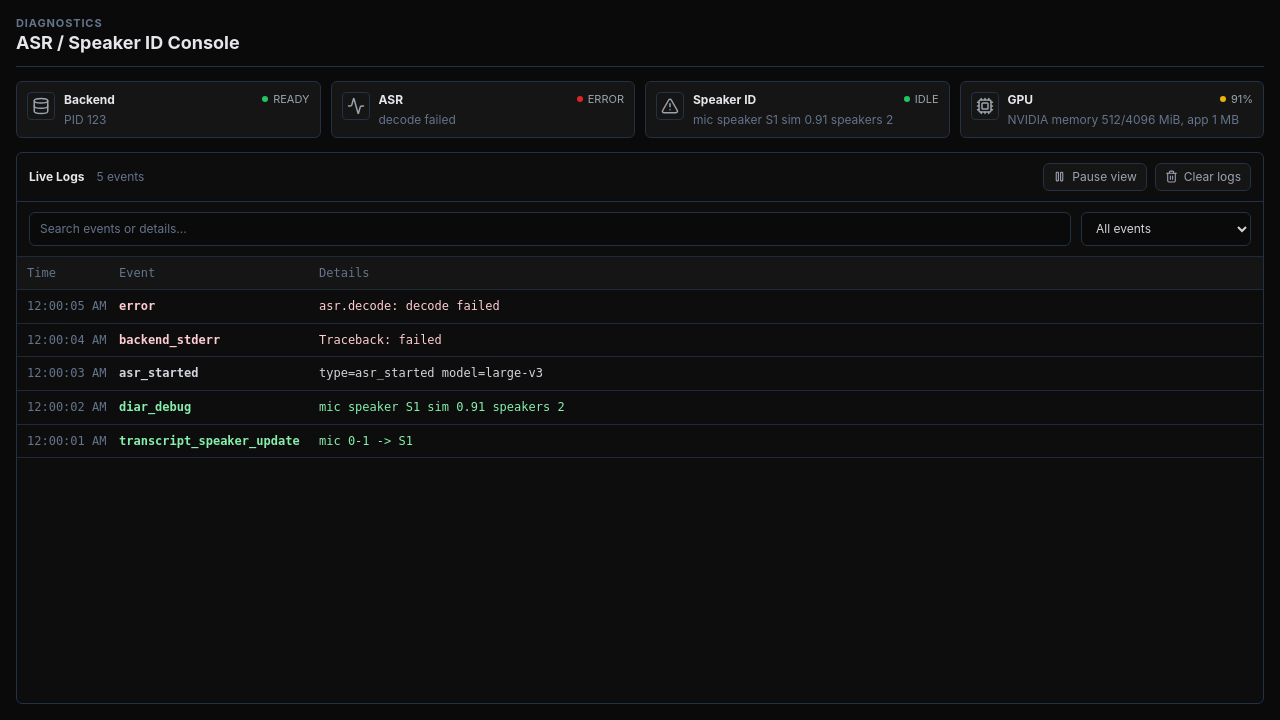
Scenario: DebugConsoleApp › renders runtime cards, recent events, live events, and clear action
Expected: the heading "ASR / Speaker ID Console" is shown, [16,32,240,54]
Expected: the text "4 events" is shown, [96,169,144,184]
Step 1. Click the button titled "Clear visible logs" → {"x": 1203, "y": 177}, box [1155,163,1251,191]
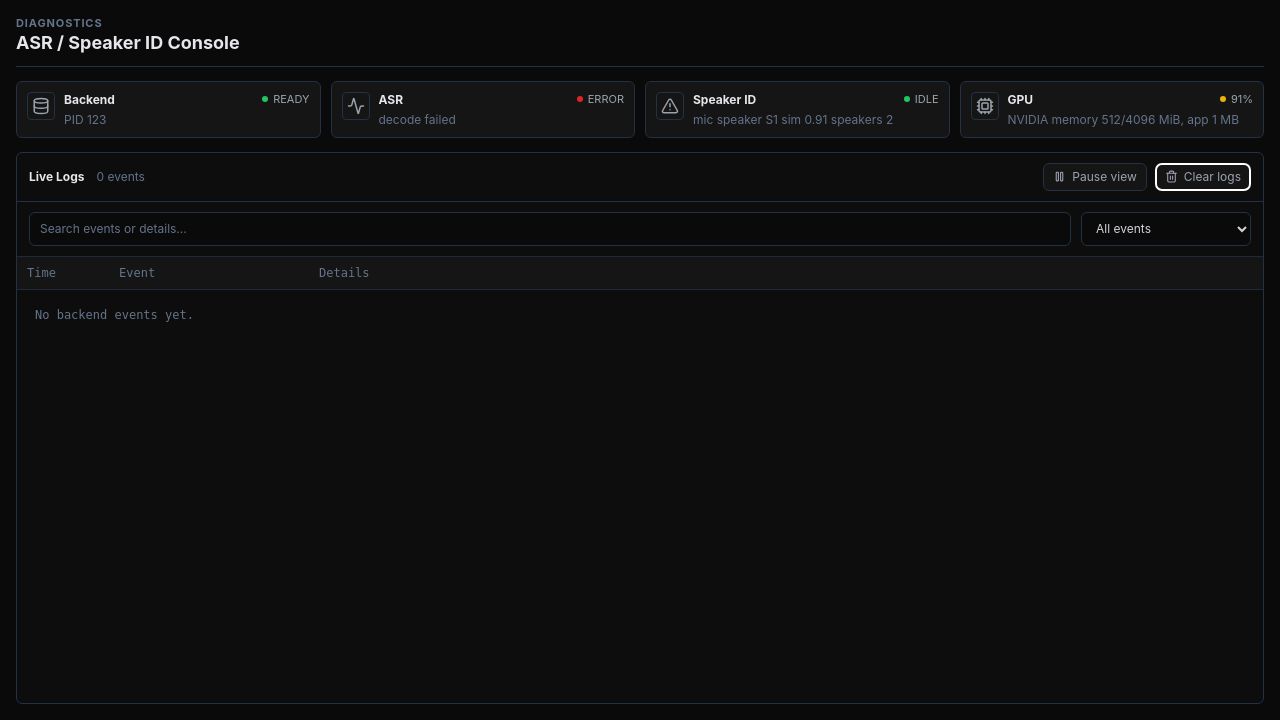
Now the text "No backend events yet." is shown, box [35,308,194,322]
